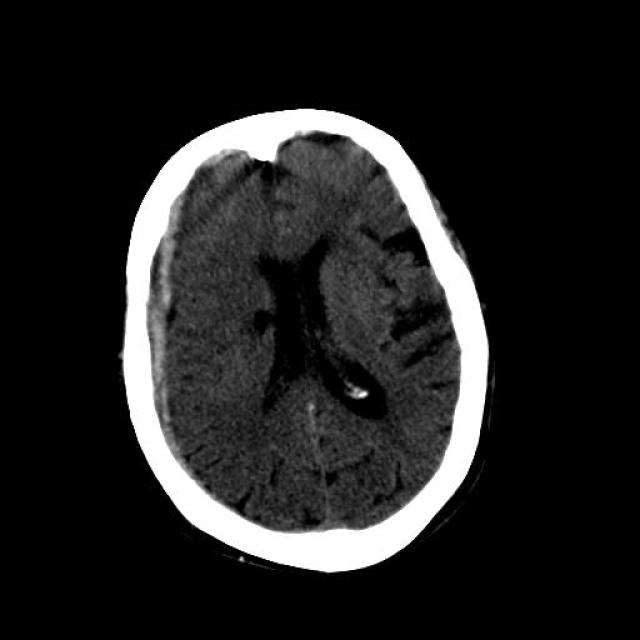Subdural: (94, 149, 244, 480)
